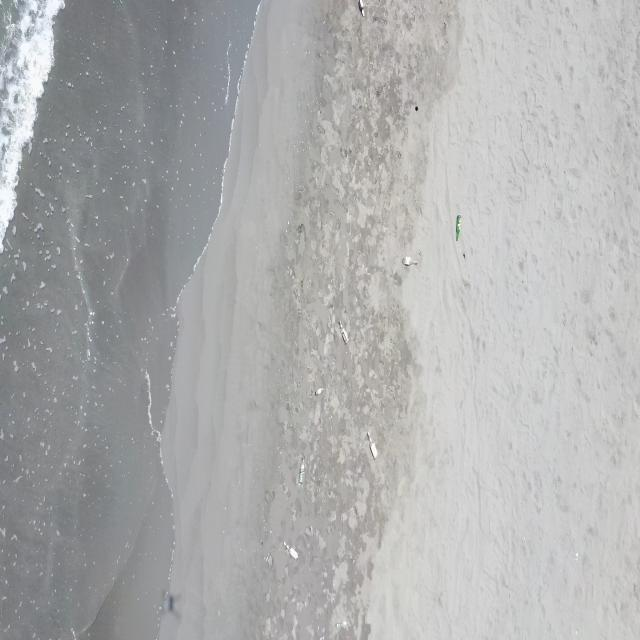glass: (283, 540, 299, 562), (367, 430, 378, 460), (339, 318, 349, 345), (298, 454, 306, 485), (455, 216, 462, 242), (402, 256, 418, 267), (358, 0, 366, 17), (315, 386, 324, 397)
